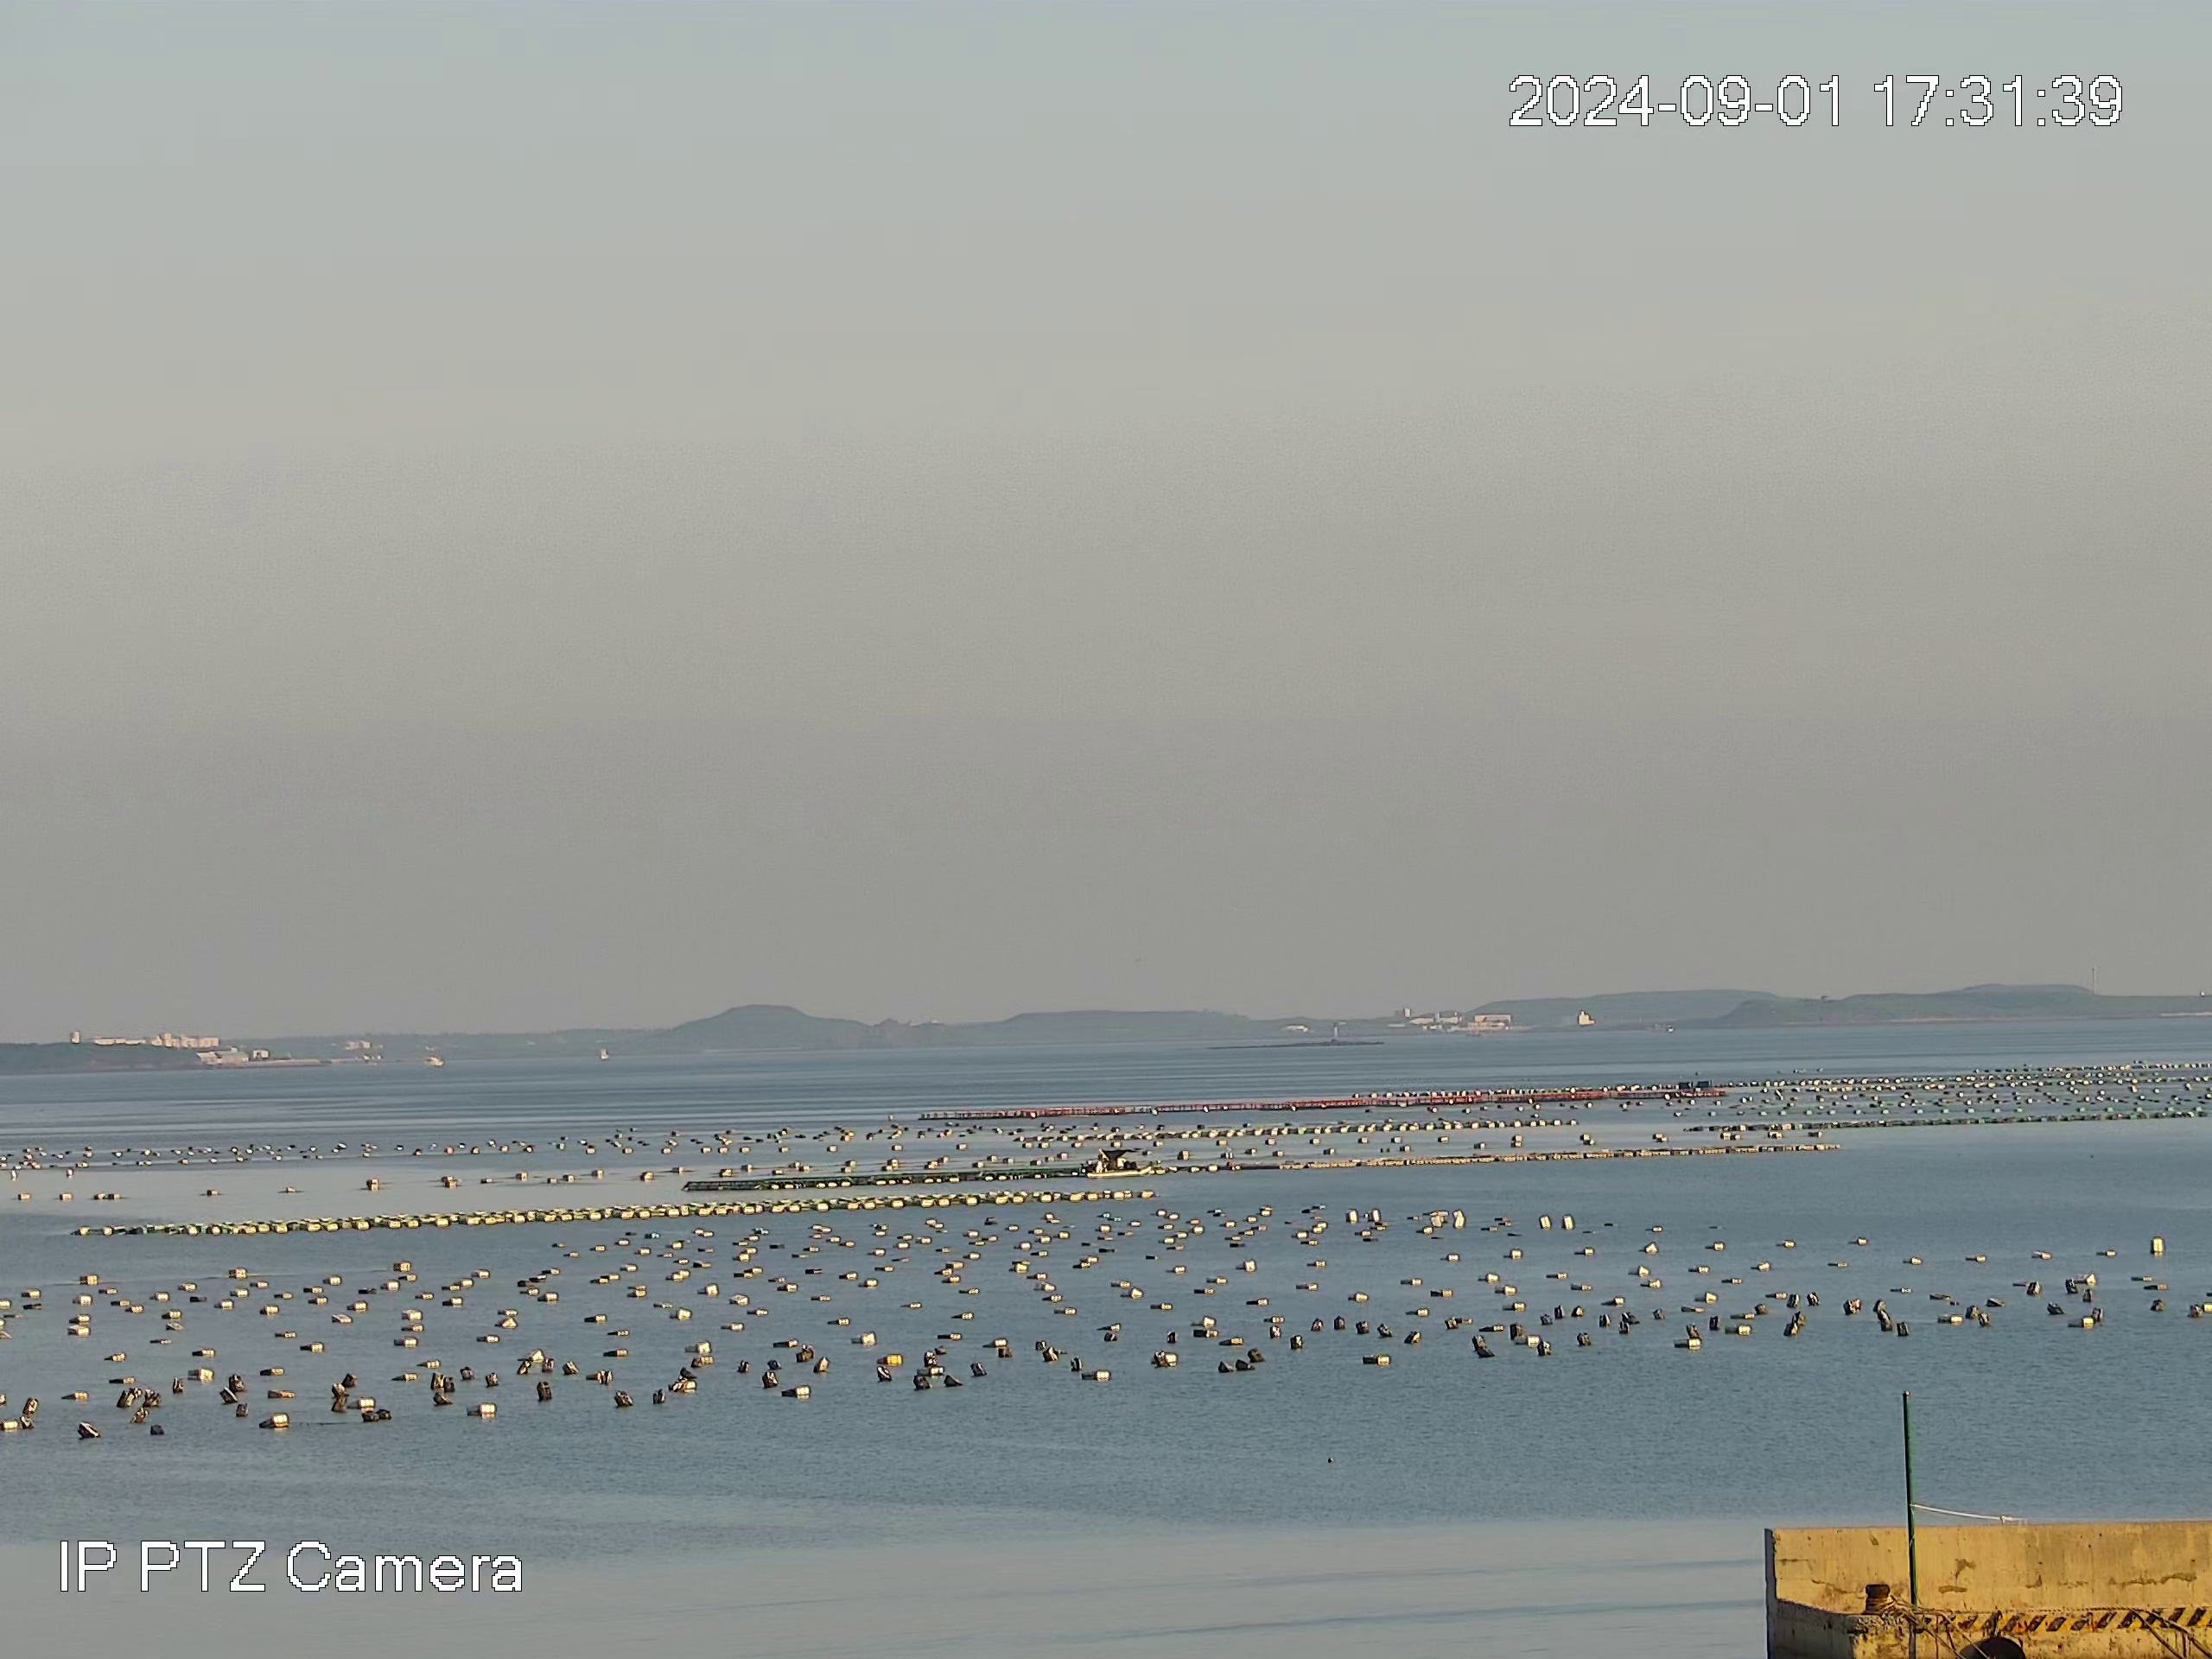boat: (1087, 1145, 1157, 1178)
